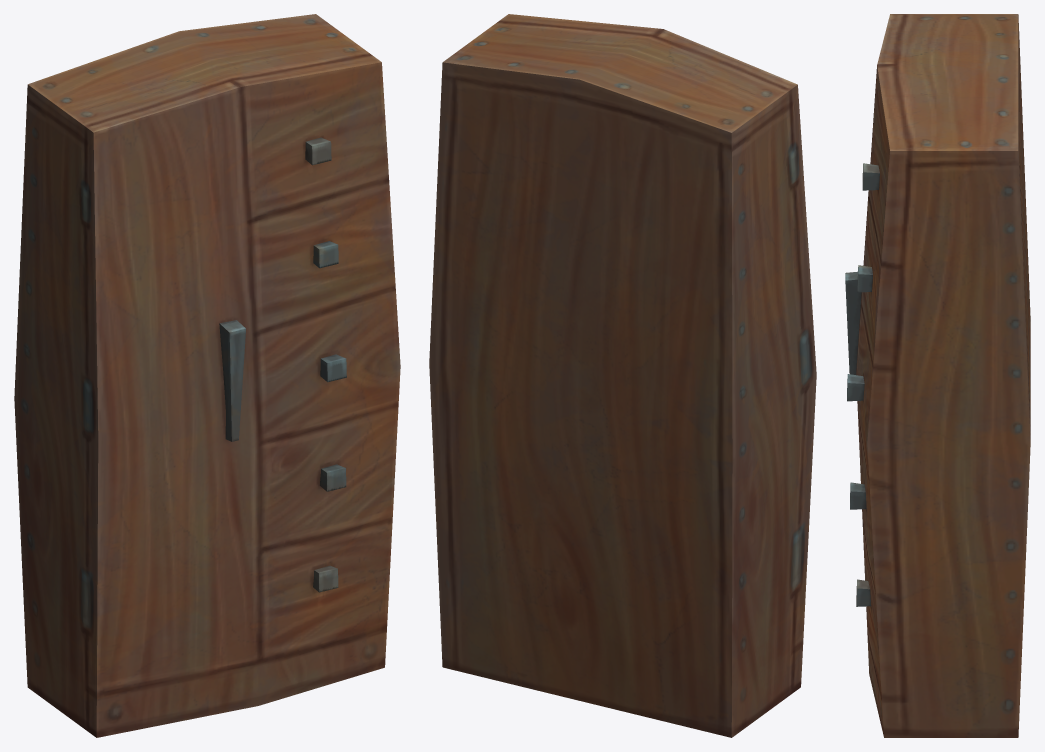
Rendered from furnitureSet_cupboard_1.FBX.
3 views of the same model, side by side, from view 1: azimuth 30°, elevation 25°; view 2: azimuth 150°, elevation 25°; view 3: azimuth 270°, elevation 25° (orthographic). The views are drawn at different scales.
Visible parts, largest first — view 1: furnitureSet_cupboard_1; view 2: furnitureSet_cupboard_1; view 3: furnitureSet_cupboard_1.
Boxes of the visible parts, x1,y1,x2,y2 form: furnitureSet_cupboard_1: [14, 14, 400, 737]; furnitureSet_cupboard_1: [429, 14, 816, 737]; furnitureSet_cupboard_1: [845, 14, 1030, 737].
Bounding box in the file's own units: 89.96 × 176 × 49.06.
1 material, 1 textured.
